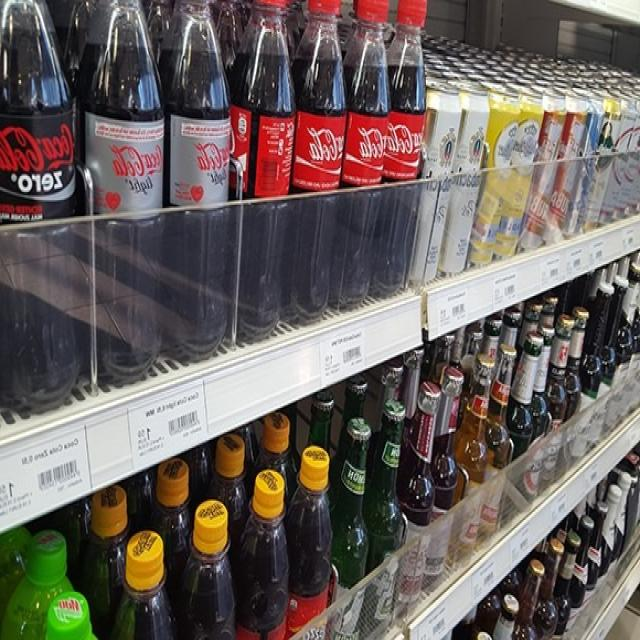coca cola: (0, 123, 85, 208), (96, 141, 164, 187), (342, 125, 398, 171)
